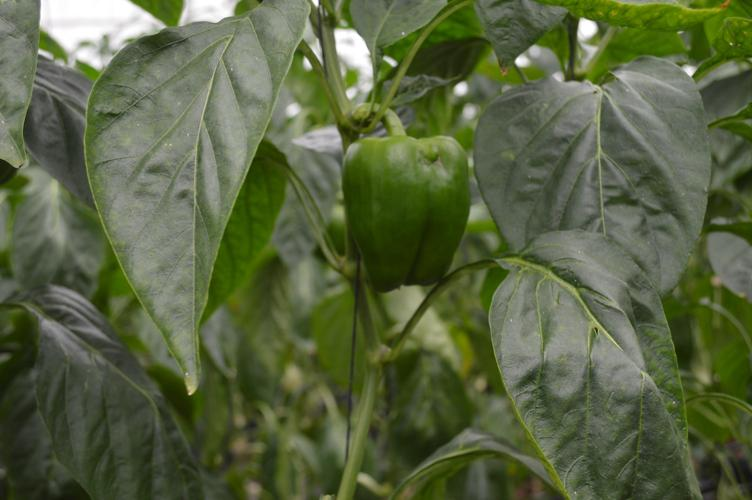BellPepper: (328, 125, 478, 308)
